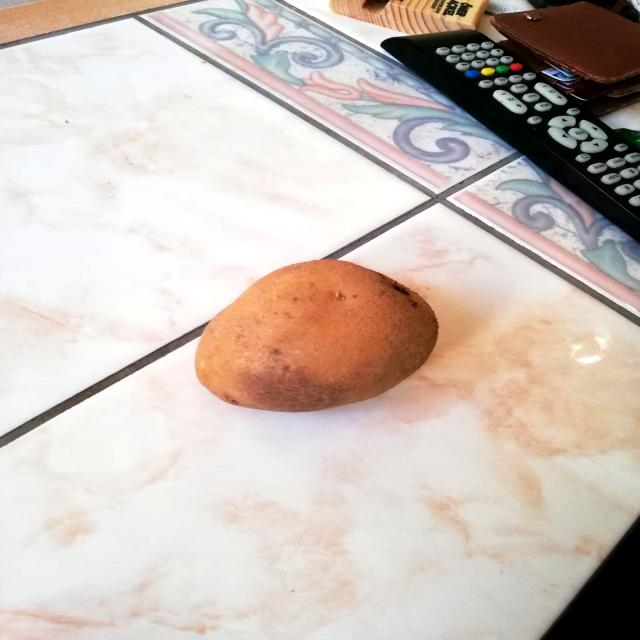potato: (178, 253, 448, 418)
